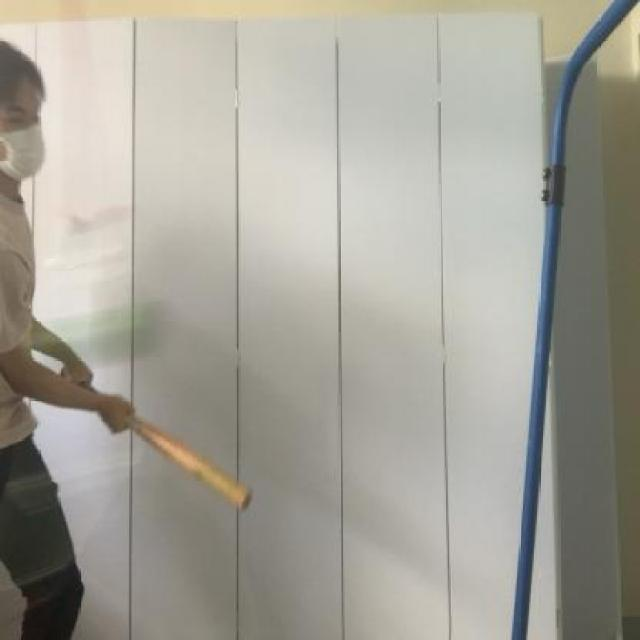baseball: (0, 287, 178, 415)
